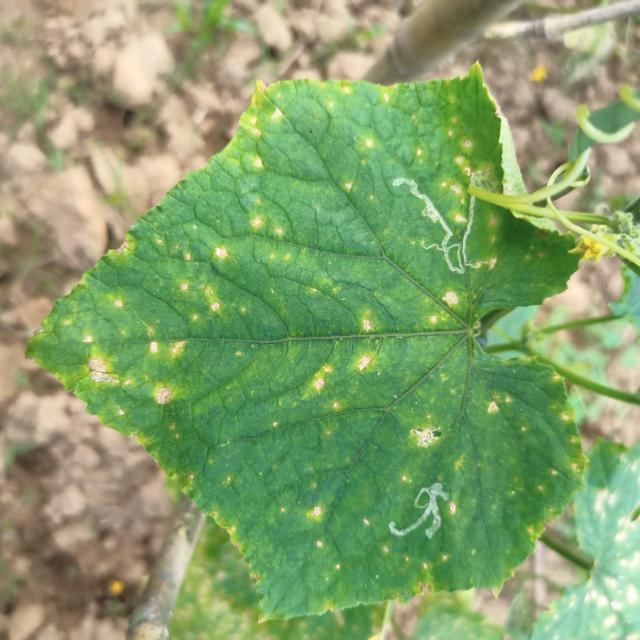disease_cucumber: (46, 141, 284, 462), (298, 254, 586, 448), (230, 66, 518, 228), (287, 498, 455, 580)
